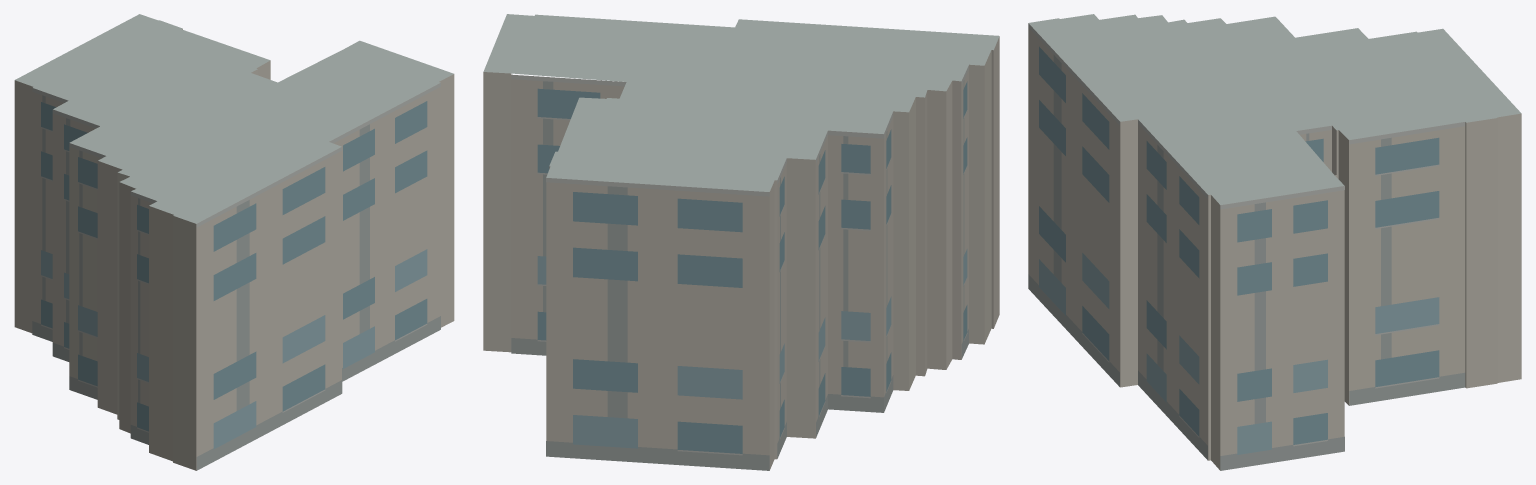
The model's file is survey-upis-32669995.glb.
The picture shows the model from 3 angles, left to right: view 1: azimuth 30°, elevation 25°; view 2: azimuth 150°, elevation 25°; view 3: azimuth 270°, elevation 25°; orthographic projection. The views are drawn at different scales.
Visible parts, largest first — view 1: survey-upis-32669995.tmp; view 2: survey-upis-32669995.tmp; view 3: survey-upis-32669995.tmp.
Part boxes in pixels (<box>): survey-upis-32669995.tmp: <box>14,14,454,470</box>; survey-upis-32669995.tmp: <box>483,14,999,470</box>; survey-upis-32669995.tmp: <box>1028,14,1521,470</box>.
Size of the model in its own units: 23.55 by 15.25 by 25.67.
